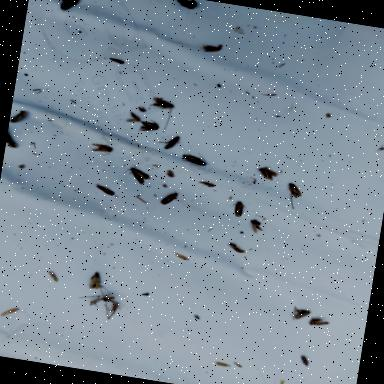pbw: (122, 163, 150, 185), (181, 152, 208, 168), (229, 201, 247, 219), (152, 98, 174, 112), (160, 191, 178, 207), (256, 168, 278, 181), (60, 0, 83, 12), (138, 121, 159, 134), (287, 183, 303, 199), (164, 136, 180, 152), (90, 143, 112, 154), (202, 43, 223, 54), (89, 273, 102, 290), (294, 309, 310, 321), (300, 356, 310, 366)
